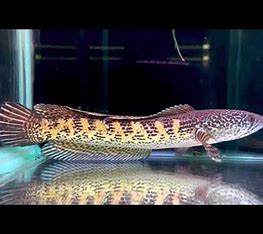Fish: (1, 90, 263, 163)
